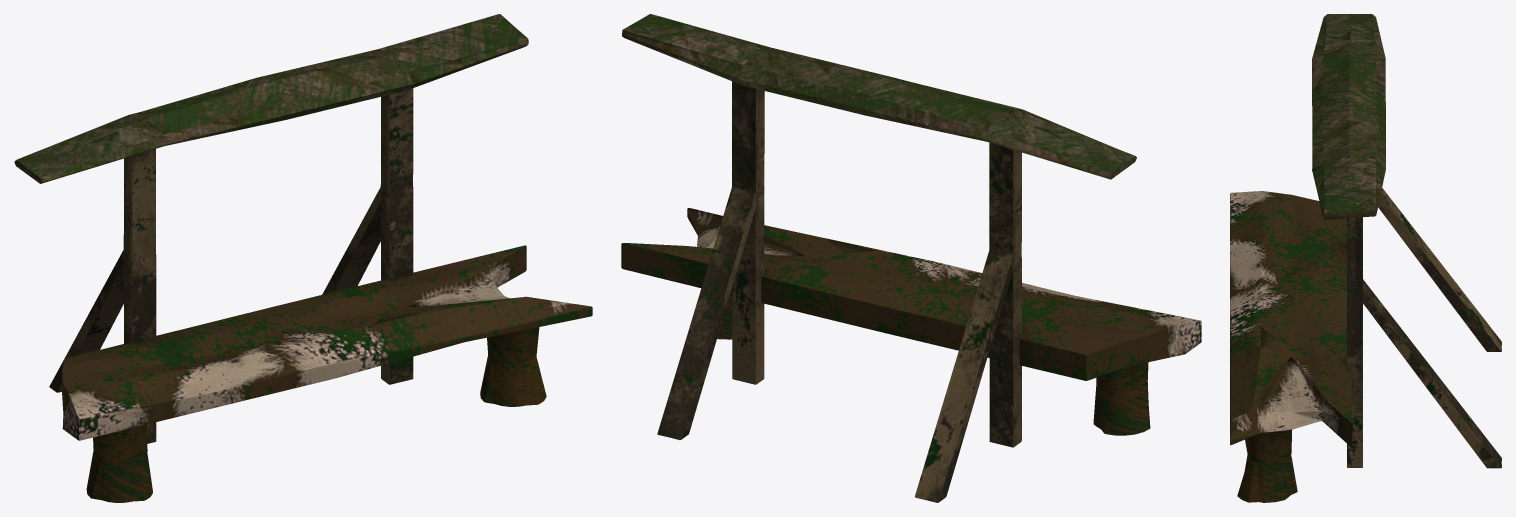
File: banca-vieja.glb
3 views of the same model, side by side, from view 1: azimuth 30°, elevation 25°; view 2: azimuth 150°, elevation 25°; view 3: azimuth 270°, elevation 25° (orthographic). The views are drawn at different scales.
Parts seen in each view (by area): view 1: Mesh_0; view 2: Mesh_0; view 3: Mesh_0.
Boxes of the visible parts, <box> form: Mesh_0: <box>14,14,592,502</box>; Mesh_0: <box>621,14,1201,502</box>; Mesh_0: <box>1230,14,1501,502</box>.
Bounding box in the file's own units: 11.97 × 7.37 × 5.92.
Materials: 5 (5 with a texture image).
